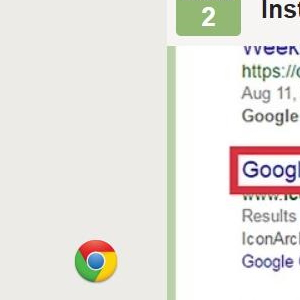chrome: (74, 239, 118, 284)
